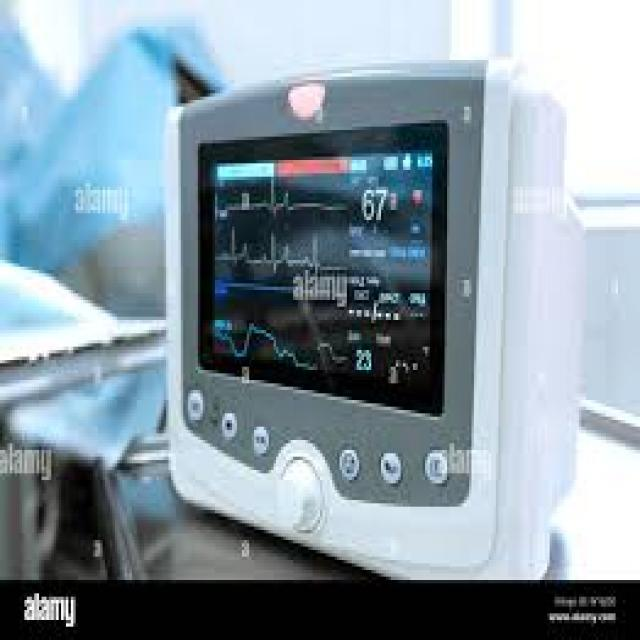cardiac_monitor: (156, 96, 536, 555)
